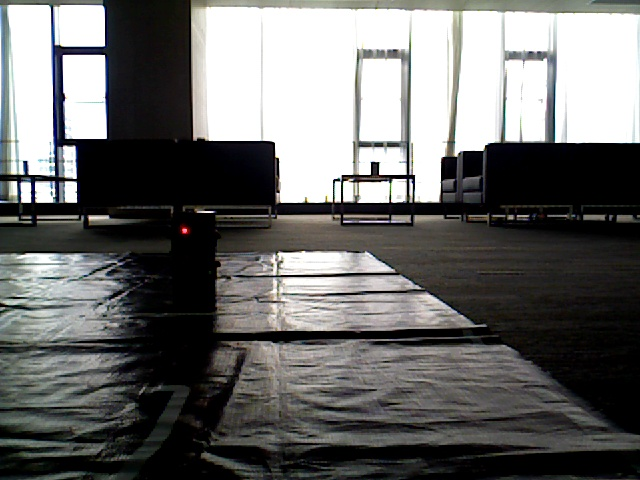red: (169, 211, 212, 295)
